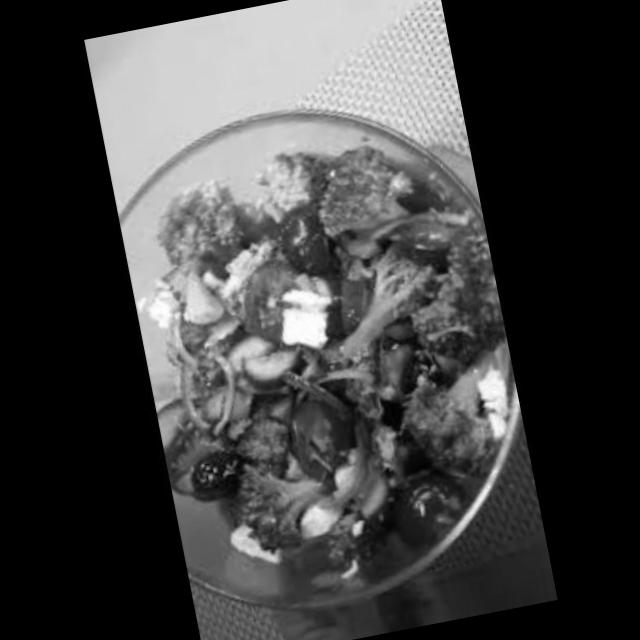bong cai xanh: (312, 246, 452, 368), (390, 362, 518, 488), (140, 152, 236, 282), (232, 128, 340, 242), (222, 446, 329, 554), (406, 262, 506, 366), (301, 146, 382, 256)
ca chua: (262, 378, 354, 492), (227, 256, 316, 356), (380, 466, 476, 558), (154, 401, 240, 499), (263, 185, 337, 289), (378, 210, 472, 270)
cu hanh: (152, 308, 218, 446)
dua chuot: (216, 329, 299, 396)
